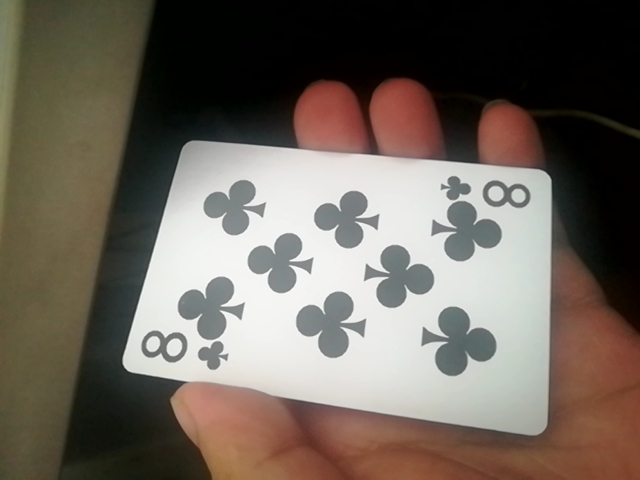mh 8: (119, 135, 562, 438)
